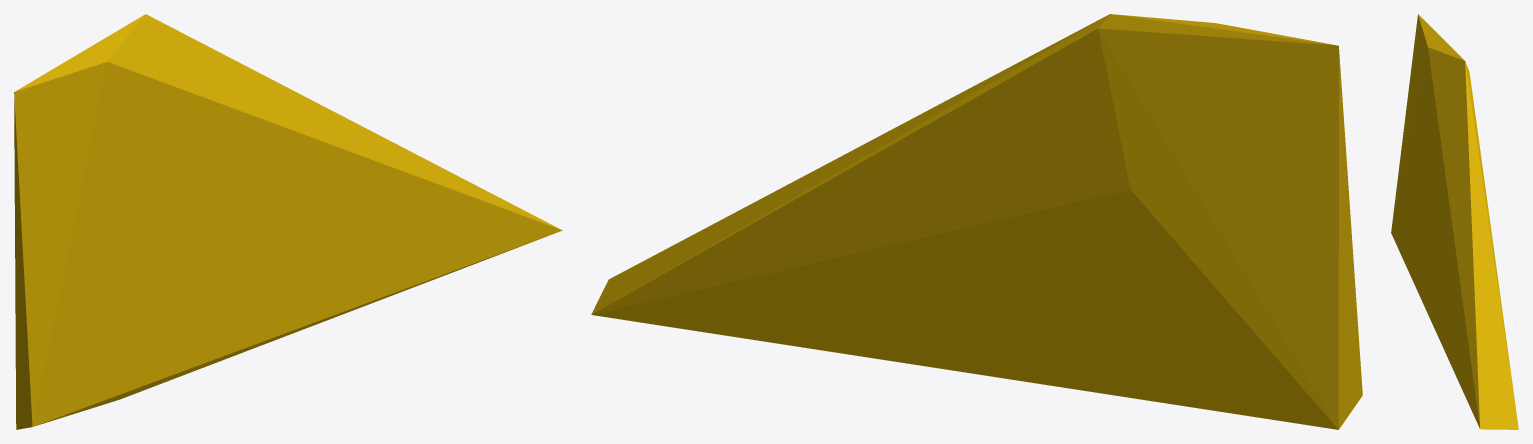
Rendered from arm-L4_convex_piece_008.obj.
3 renders of one model, left to right at view 1: azimuth 30°, elevation 25°; view 2: azimuth 150°, elevation 25°; view 3: azimuth 270°, elevation 25°, orthographic. The views are drawn at different scales.
Size of the model in its own units: 0.07 by 0.0393 by 0.019.
